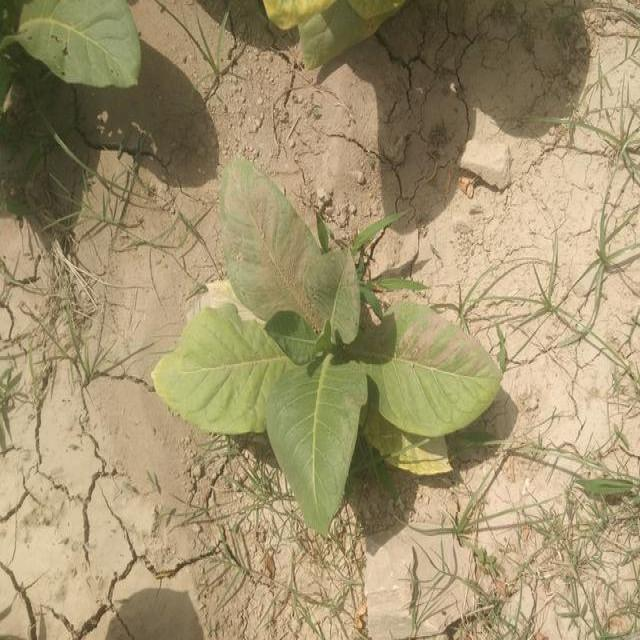crop: (167, 160, 490, 532), (17, 0, 151, 83)
